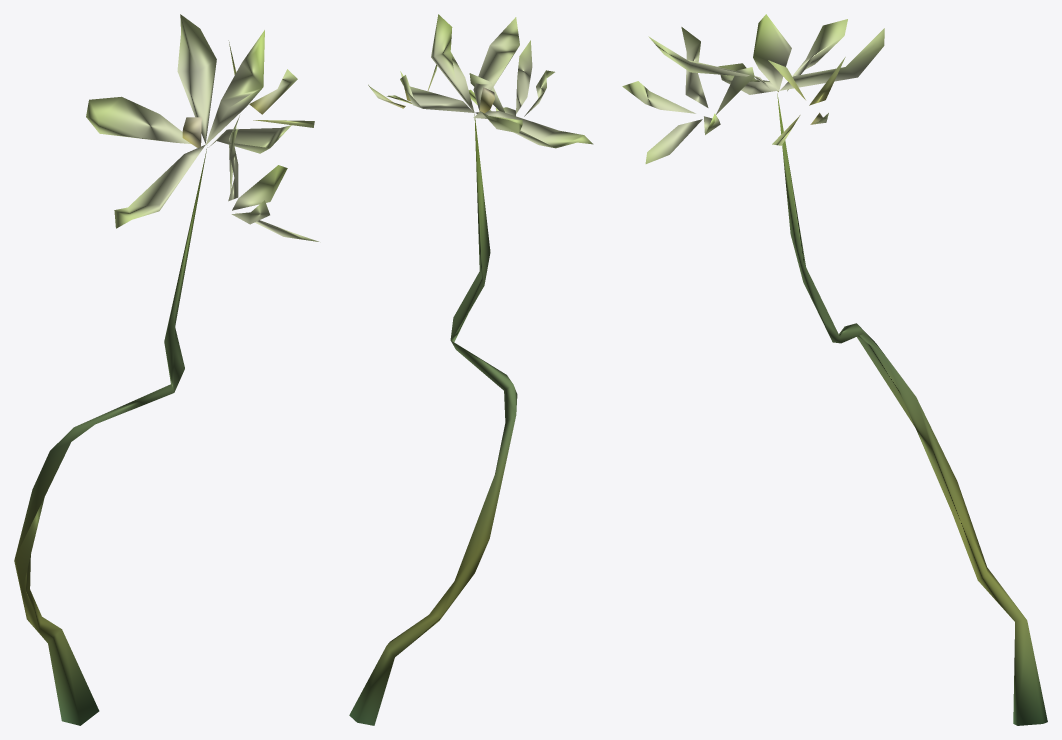
The picture shows the model from 3 angles, left to right: view 1: azimuth 30°, elevation 25°; view 2: azimuth 150°, elevation 25°; view 3: azimuth 270°, elevation 25°; orthographic projection. The views are drawn at different scales.
Parts seen in each view (by area): view 1: LOD 5_7598556c-190f-51c2-9c27-77094a5ef6d8; view 2: LOD 5_7598556c-190f-51c2-9c27-77094a5ef6d8; view 3: LOD 5_7598556c-190f-51c2-9c27-77094a5ef6d8.
Part boxes in pixels (left/top/right/bottom): LOD 5_7598556c-190f-51c2-9c27-77094a5ef6d8: left=14, top=14, right=318, bottom=725; LOD 5_7598556c-190f-51c2-9c27-77094a5ef6d8: left=349, top=14, right=593, bottom=725; LOD 5_7598556c-190f-51c2-9c27-77094a5ef6d8: left=622, top=14, right=1047, bottom=725.
Bounding box in the file's own units: 4.84 × 15.47 × 8.12.
